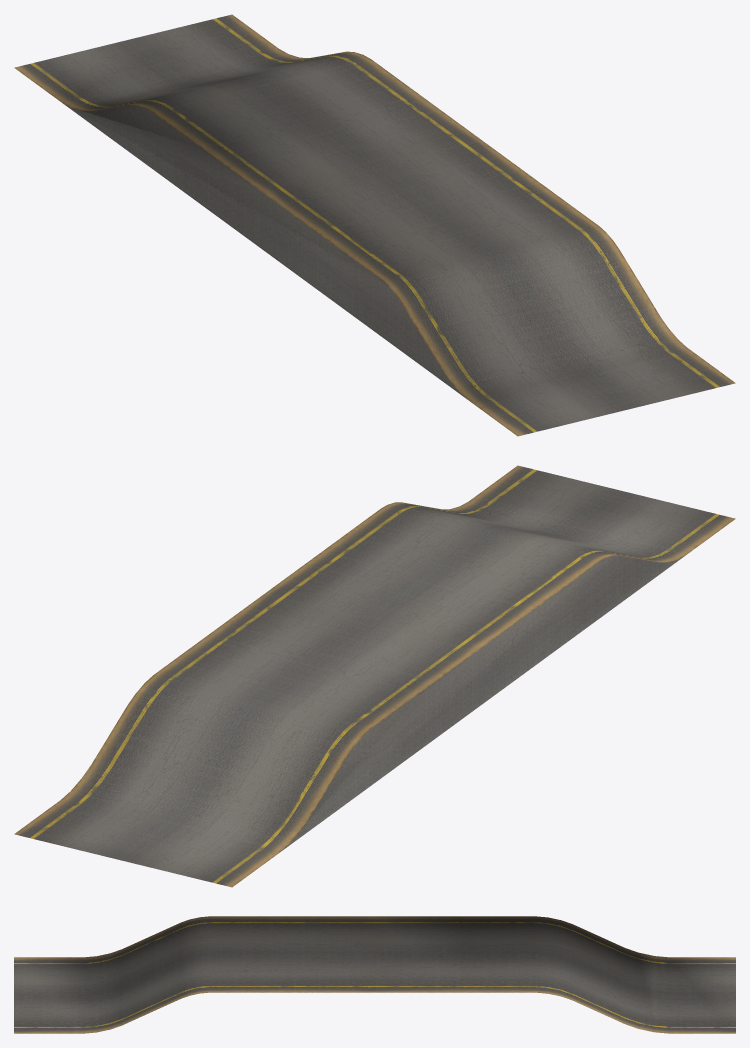
Rendered from road_shape_1.fbx.
3 views of the same model, one above another, from view 1: azimuth 30°, elevation 25°; view 2: azimuth 150°, elevation 25°; view 3: azimuth 270°, elevation 25° (orthographic). The views are drawn at different scales.
Parts seen in each view (by area): view 1: Plane_001; view 2: Plane_001; view 3: Plane_001.
Part boxes in pixels (x1,y1,x2,y2): Plane_001: (14, 14, 735, 436); Plane_001: (14, 465, 735, 887); Plane_001: (14, 916, 735, 1033).
Bounding box in the file's own units: 8 × 2 × 32.
